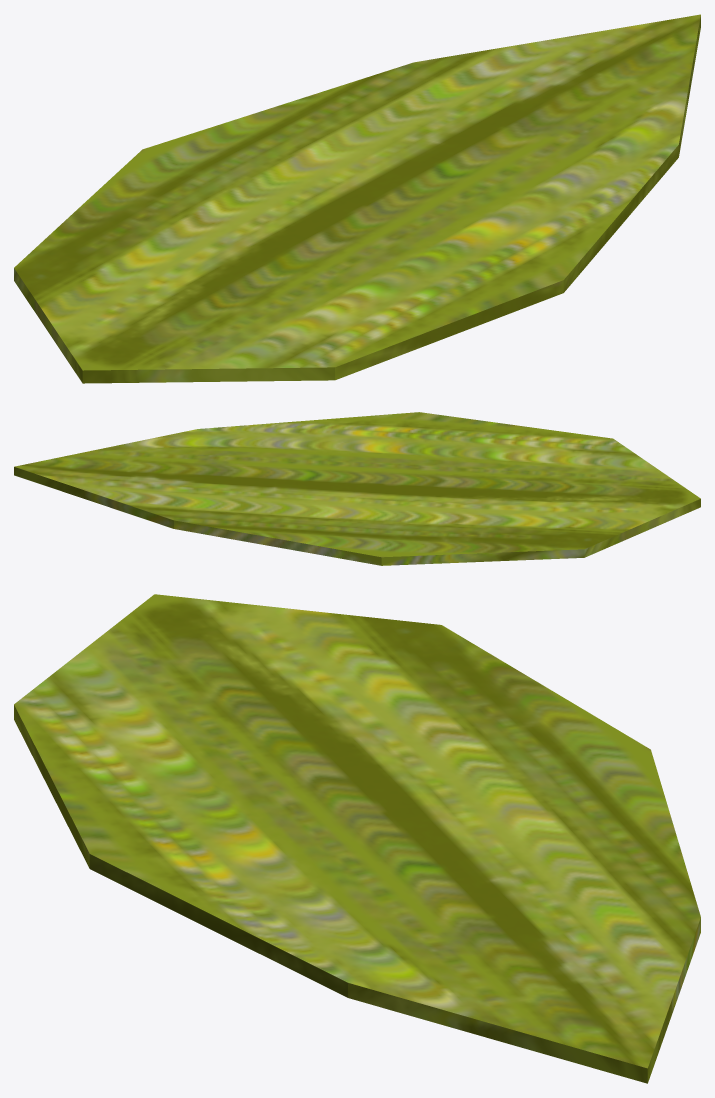
The model's file is SM_Basil.fbx.
The picture shows the model from 3 angles, top to bottom: view 1: azimuth 30°, elevation 25°; view 2: azimuth 150°, elevation 25°; view 3: azimuth 270°, elevation 25°; orthographic projection. The views are drawn at different scales.
Parts seen in each view (by area): view 1: SM_Basil; view 2: SM_Basil; view 3: SM_Basil.
Part boxes in pixels (x1,y1,x2,y2): SM_Basil: (14,14,700,383); SM_Basil: (14,412,700,565); SM_Basil: (14,594,700,1083).
Bounding box in the file's own units: 0.9922 × 0.0149 × 0.6073.
